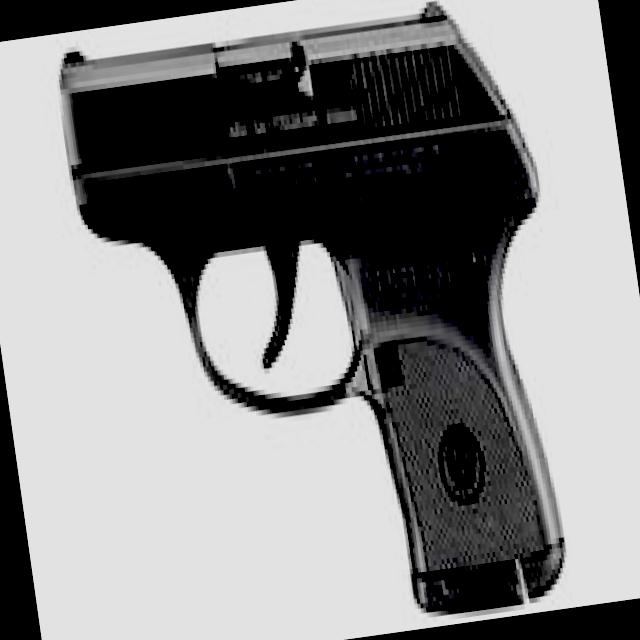semi automatic: (19, 0, 608, 640)
